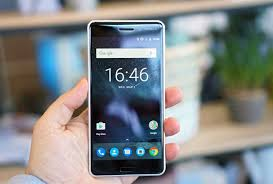nokia: (85, 16, 168, 180)
